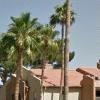Palm tree: (5, 7, 51, 94)
